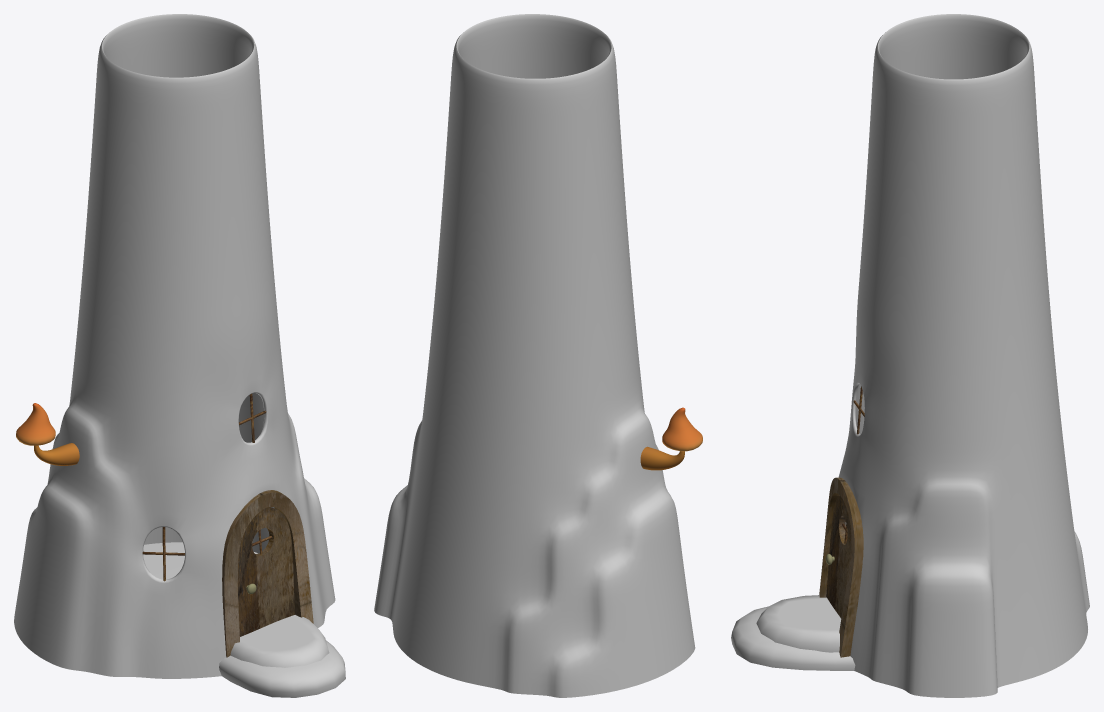
Rendered from house.fbx.
3 views of the same model, side by side, from view 1: azimuth 30°, elevation 25°; view 2: azimuth 150°, elevation 25°; view 3: azimuth 270°, elevation 25° (orthographic).
Visible parts, largest first — view 1: polySurface7, door, door_frame, step1, step2, mushroom, house_floor; view 2: polySurface7, mushroom; view 3: polySurface7, step2, step1, door_frame, door.
Boxes of the visible parts, x1=… form: polySurface7: x1=14, y1=14, x2=335, y2=678; door: x1=238, y1=507, x2=294, y2=636; door_frame: x1=222, y1=490, x2=313, y2=657; step1: x1=219, y1=640, x2=345, y2=697; step2: x1=230, y1=615, x2=329, y2=667; mushroom: x1=16, y1=403, x2=79, y2=465; house_floor: x1=143, y1=542, x2=275, y2=633; polySurface7: x1=374, y1=14, x2=695, y2=697; mushroom: x1=640, y1=407, x2=702, y2=470; polySurface7: x1=838, y1=14, x2=1089, y2=697; step2: x1=756, y1=595, x2=840, y2=652; step1: x1=731, y1=606, x2=855, y2=670; door_frame: x1=819, y1=477, x2=863, y2=657; door: x1=826, y1=496, x2=851, y2=618.
Bounding box in the file's own units: 22.15 × 39.97 × 22.31.
